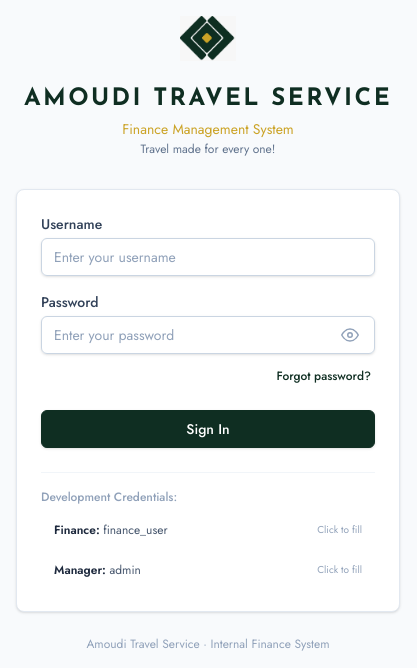
Scenario: LoginPage › pre-fills credentials when quick fill buttons are clicked
Click the text "Finance:": {"x": 77, "y": 530} left=54, top=520, right=100, bottom=538
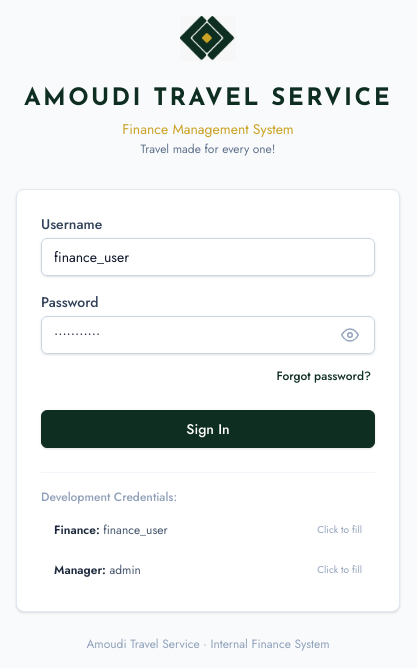
Check: the field labelled "Username" holds "finance_user", box left=41, top=238, right=375, bottom=276
Check: the password field labelled "Password" holds "Admin@12345", box left=41, top=316, right=375, bottom=354
Click the text "Manager:": {"x": 80, "y": 570} left=54, top=560, right=106, bottom=578
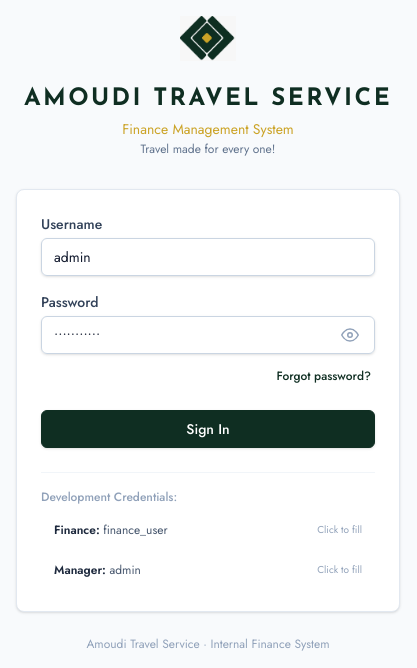
Check: the password field labelled "Password" holds "Admin@12345", box left=41, top=316, right=375, bottom=354
Check: the field labelled "Username" holds "admin", box left=41, top=238, right=375, bottom=276
